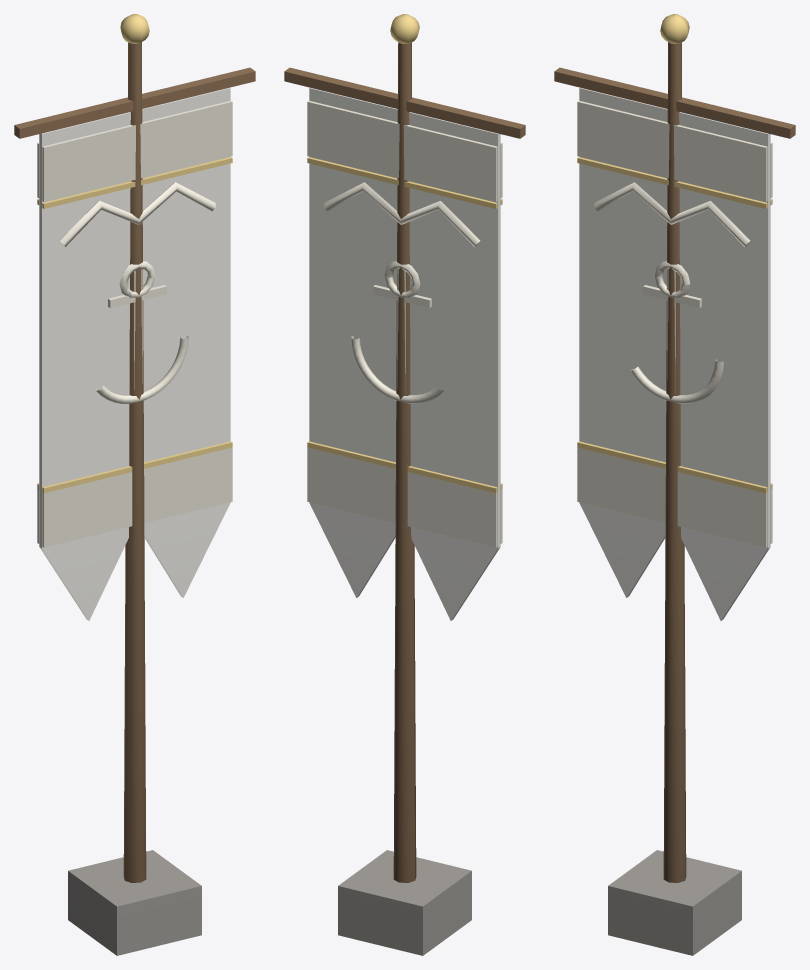
File: banner_marine.glb
3 renders of one model, left to right at view 1: azimuth 30°, elevation 25°; view 2: azimuth 150°, elevation 25°; view 3: azimuth 330°, elevation 25°, orthographic.
Visible parts, largest first — view 1: G_banner_marine; view 2: G_banner_marine; view 3: G_banner_marine.
Boxes of the visible parts, bbox=[...] form: G_banner_marine: bbox=[14, 14, 255, 955]; G_banner_marine: bbox=[284, 14, 525, 955]; G_banner_marine: bbox=[554, 14, 795, 955].
Size of the model in its own units: 2.5 by 9.24 by 0.9.
